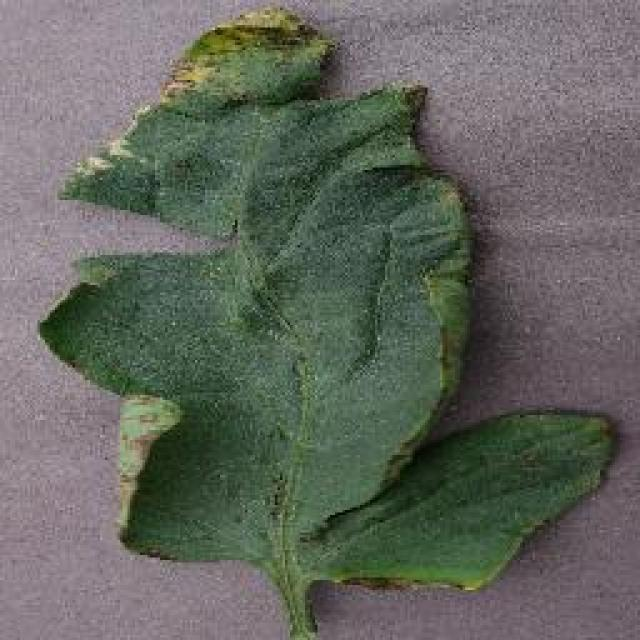Tomato bacterial spot leaf: (32, 1, 631, 640)
